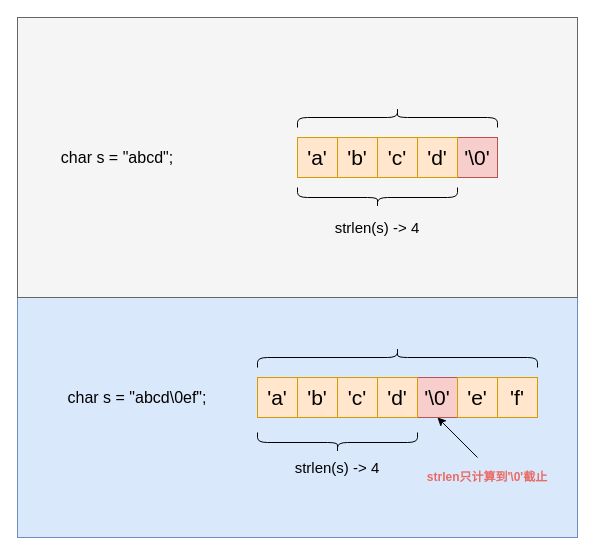
This 595x555 diagram has some shape labels left out. The shapes that lost their labels are listed below. From the top down, each one's centre as x and y in pixels, then its label:
At (397,117): "sizeof(s) -> 5".
At (397,357): "sizeof(s) -> 8".
